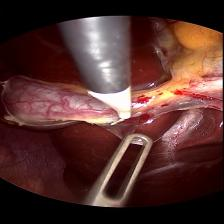Grasper: (83, 131, 156, 207)
Hook: (84, 84, 138, 126)
